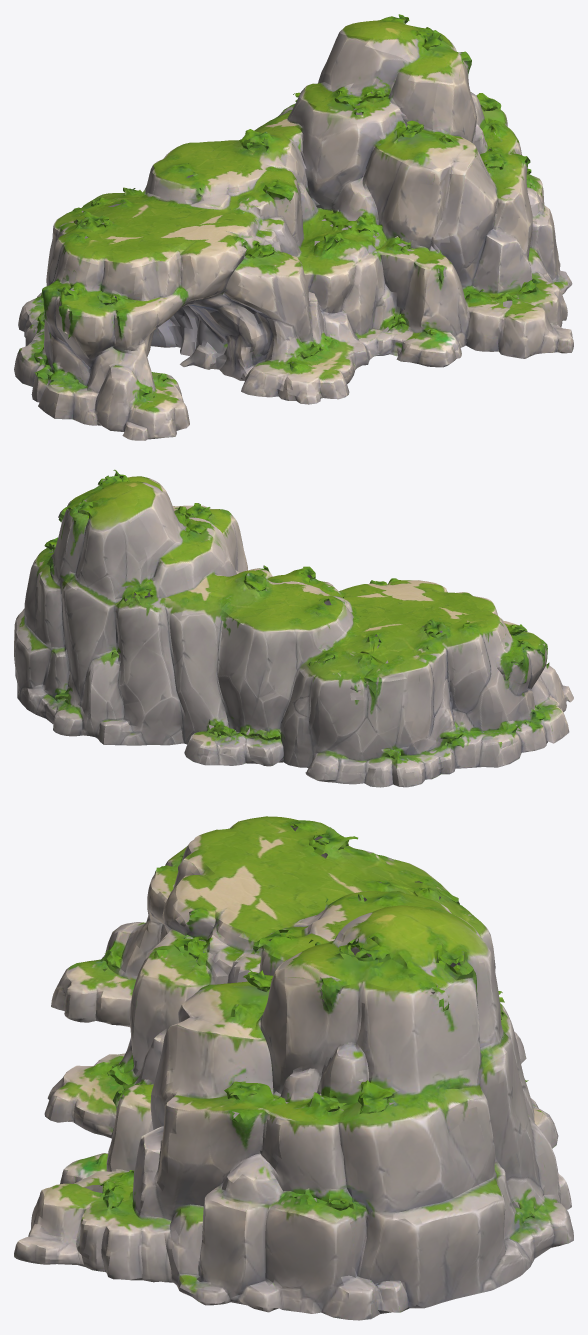
The model's file is island-headland.glb.
The picture shows the model from 3 angles, top to bottom: view 1: azimuth 30°, elevation 25°; view 2: azimuth 150°, elevation 25°; view 3: azimuth 270°, elevation 25°; orthographic projection. The views are drawn at different scales.
Parts seen in each view (by area): view 1: island-headlandLOD0; view 2: island-headlandLOD0; view 3: island-headlandLOD0.
Part boxes in pixels (bbox=[...]): island-headlandLOD0: bbox=[14, 14, 573, 440]; island-headlandLOD0: bbox=[14, 469, 573, 787]; island-headlandLOD0: bbox=[14, 816, 573, 1320].
Size of what is drawn, in the model's own units: 1.9 by 0.7696 by 1.24.
Materials: 1 (1 with a texture image).
